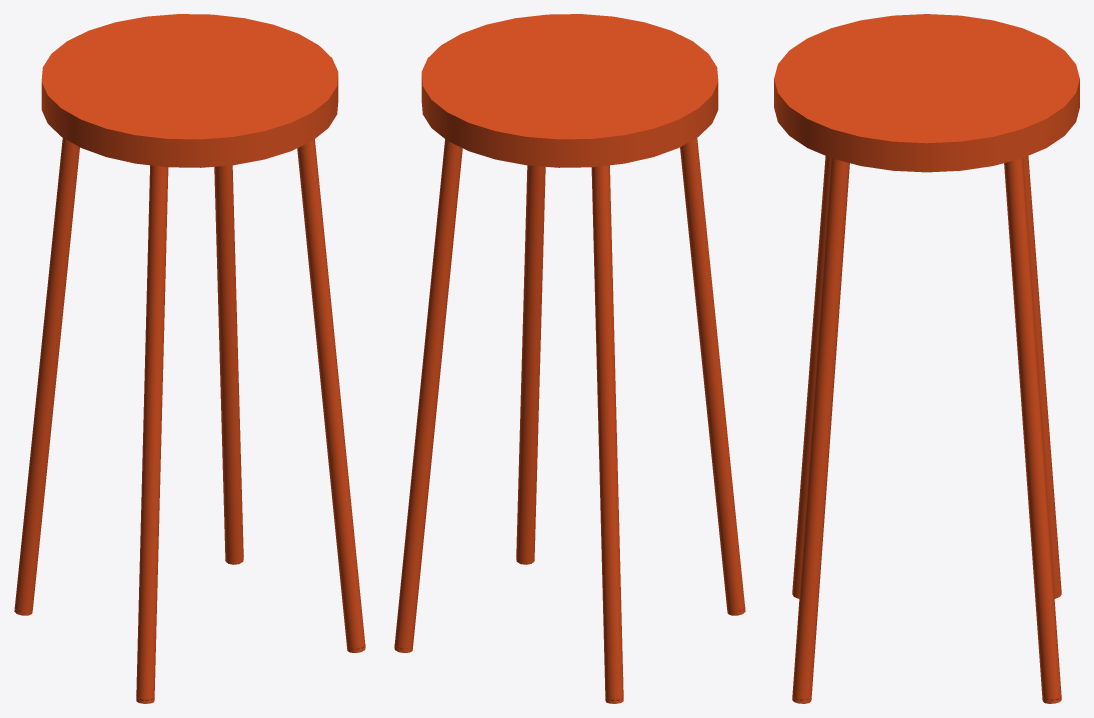
Rendered from bar_stool.glb.
3 renders of one model, left to right at view 1: azimuth 30°, elevation 25°; view 2: azimuth 150°, elevation 25°; view 3: azimuth 270°, elevation 25°, orthographic. The views are drawn at different scales.
Size of the model in its own units: 0.38 by 0.7811 by 0.38.
